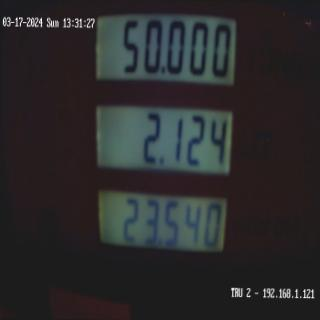screen: (86, 6, 240, 272)
